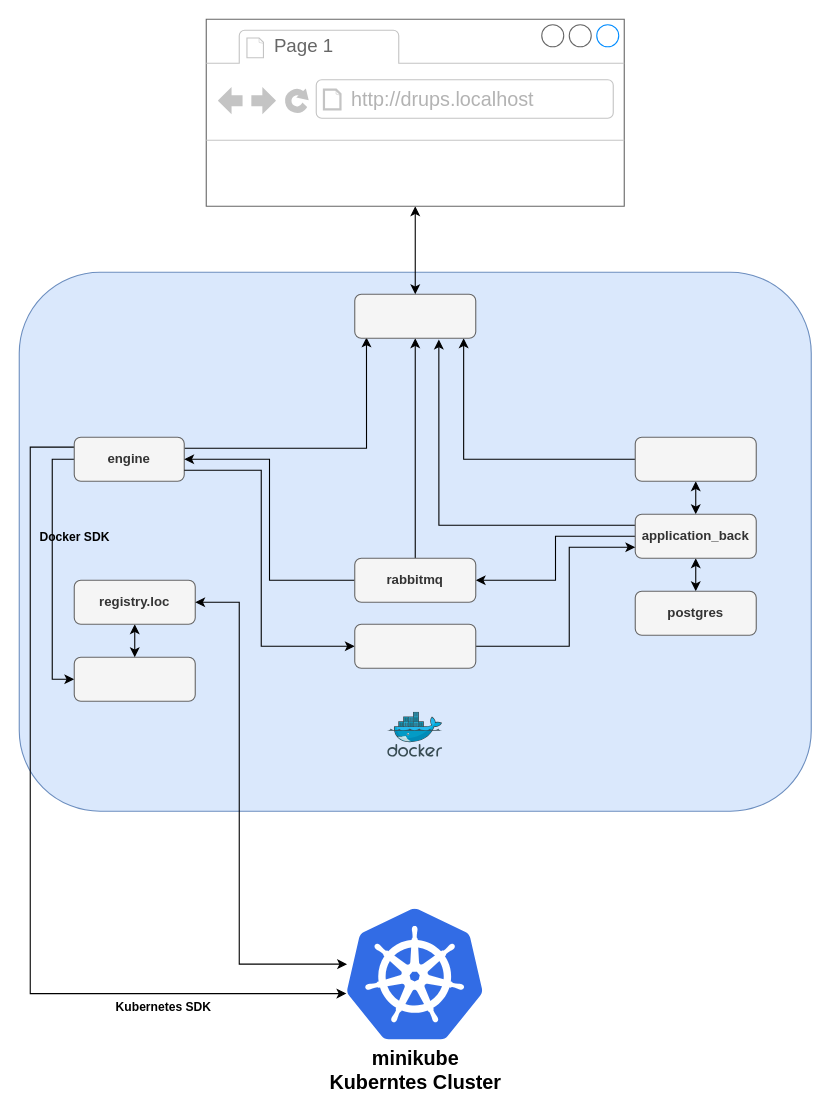
Some shapes in this 831 by 1114 pixel diagram are drawn without their labels. Each missing label, with the centre of its shape:
"application_front" goes at (x=695, y=458).
"docker" goes at (x=134, y=678).
"Docker Services" goes at (x=414, y=734).
"redis" goes at (x=415, y=645).
"traefik" goes at (x=415, y=315).
